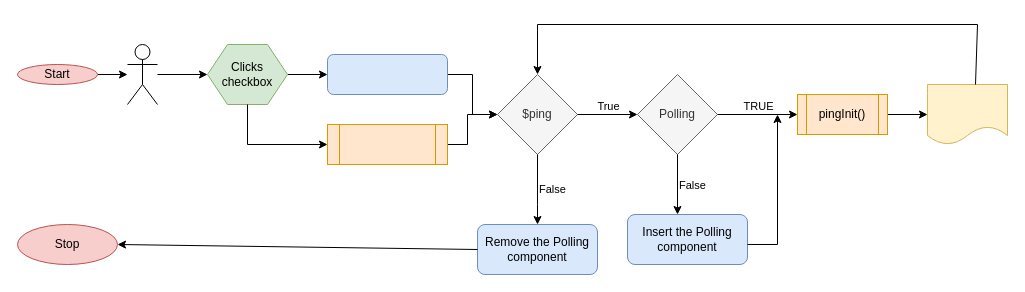
Some shapes in this 1025 by 292 pixel diagram are drawn without their labels. Each missing label, with the centre of its shape:
"$ping state changes" goes at [387,74].
"Diplay ping times" goes at [967,114].
"reset()" goes at [387,144].
"User" goes at [142,74].
